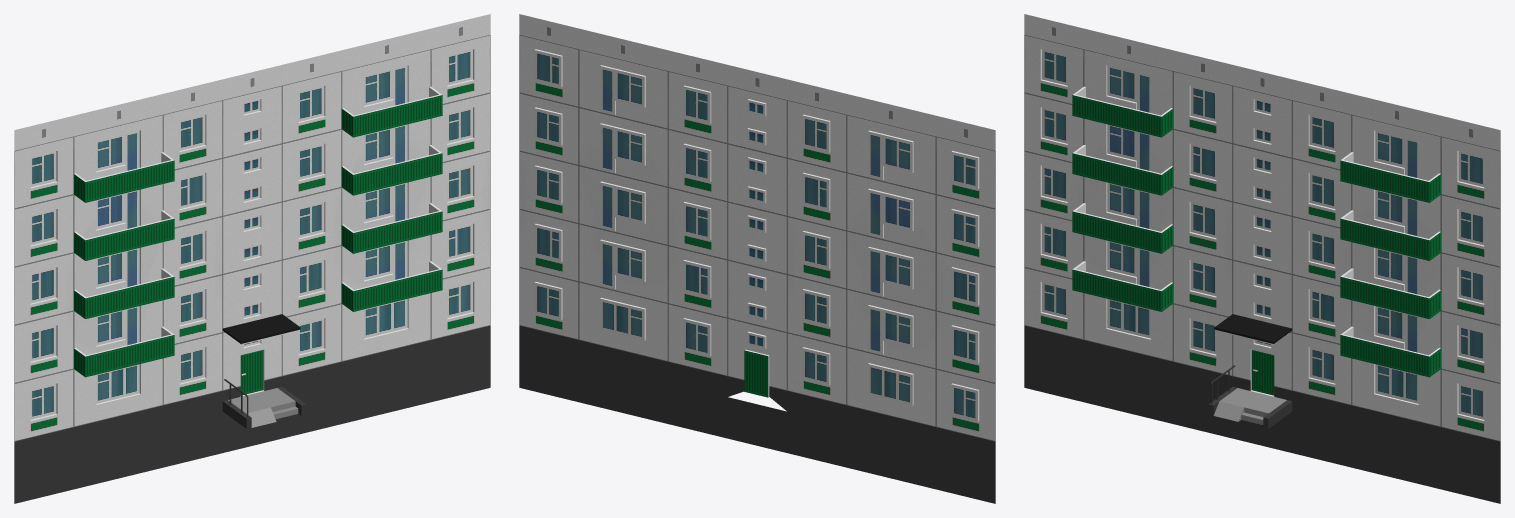
3 renders of one model, left to right at view 1: azimuth 30°, elevation 25°; view 2: azimuth 150°, elevation 25°; view 3: azimuth 330°, elevation 25°, orthographic.
Parts seen in each view (by area): view 1: Khrush_mesh; view 2: Khrush_mesh; view 3: Khrush_mesh.
Boxes of the visible parts, x1,y1,x2,y2 form: Khrush_mesh: [14, 14, 490, 503]; Khrush_mesh: [519, 14, 995, 503]; Khrush_mesh: [1024, 14, 1500, 503].
Bounding box in the file's own units: 2400 × 1800 × 220.
